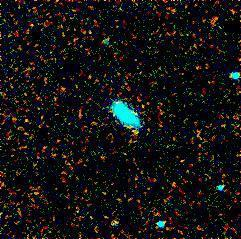star: (122, 115, 152, 145)
